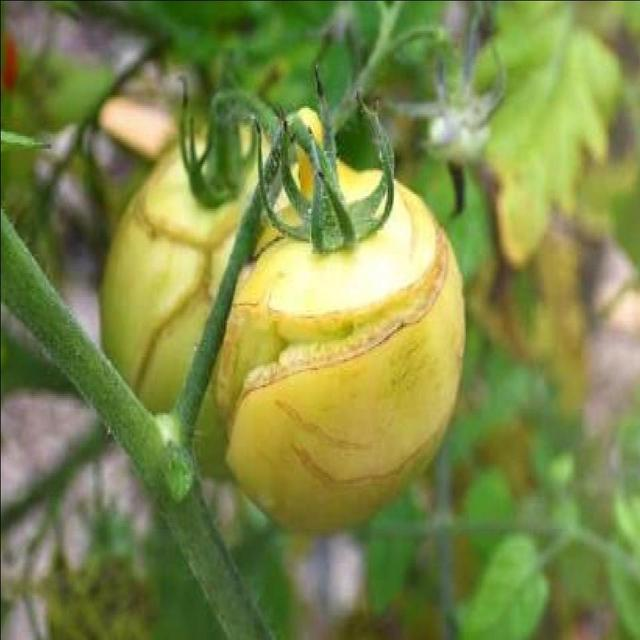Cracking Fruit: (58, 72, 218, 208)
